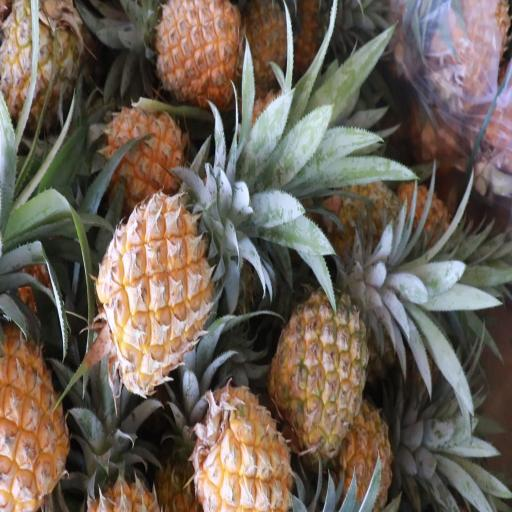------------------------------: (273, 296, 365, 455), (0, 0, 77, 126)
Pineapple - v8 v1: (99, 192, 210, 379), (0, 314, 64, 508), (189, 387, 287, 512), (152, 0, 238, 99), (102, 105, 183, 195)
